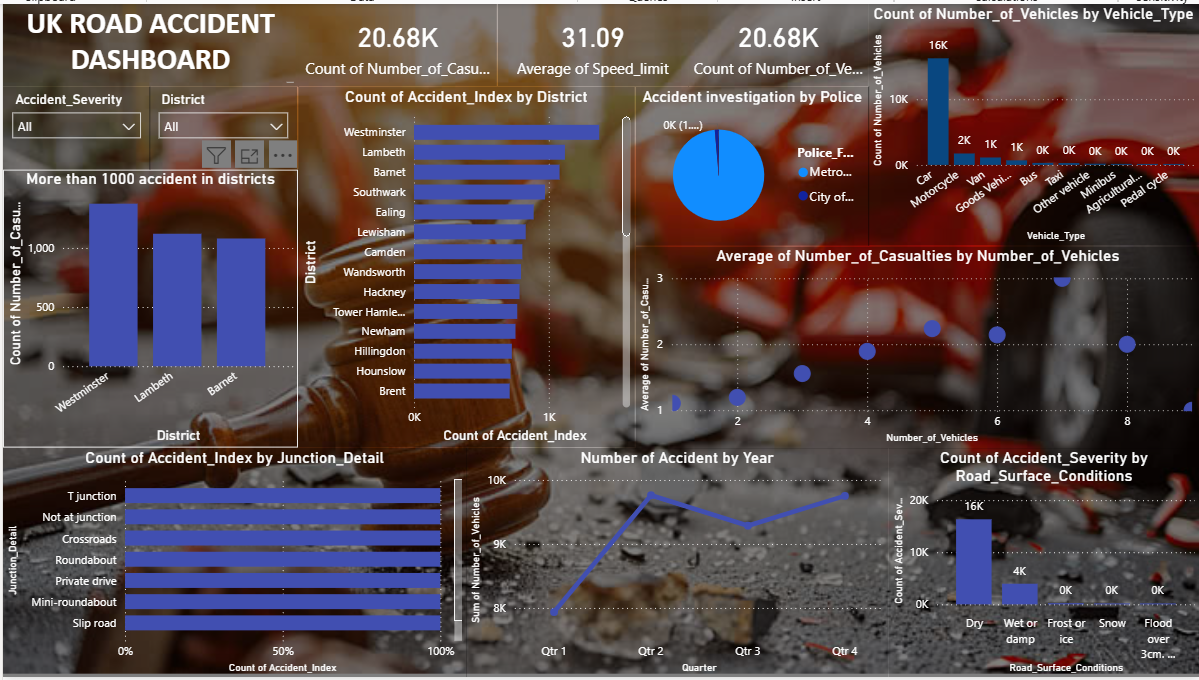

The page's visual inventory and layout, read from the dashboard file:
{"tool":"powerbi","page":{"name":"Page 1","canvas":[1280,720],"ordinal":0},"visuals":[{"type":"textbox","title":"UK ROAD ACCIDENT DASHBOARD","box":[0,0,315.7,88.5],"z":0},{"type":"card","fields":{"Values":["CountNonNull(UK_Road_Accidents.Number_of_Casualties)"]},"box":[315.7,0,212.9,88.6],"z":1000},{"type":"card","fields":{"Values":["Avg(UK_Road_Accidents.Speed_limit)"]},"box":[528.6,0,204.3,88.6],"z":2000},{"type":"card","fields":{"Values":["CountNonNull(UK_Road_Accidents.Number_of_Vehicles)"]},"box":[732.9,0,192.9,88.6],"z":3000},{"type":"pieChart","title":"Accident investigation by Police","fields":{"Category":["UK_Road_Accidents.Police_Force"],"Y":["Sum(UK_Road_Accidents.Number_of_Casualties)"]},"box":[675.7,88.6,250,170],"z":4000},{"type":"columnChart","title":"More than 1000 accident in districts","fields":{"Category":["UK_Road_Accidents.District"],"Y":["CountNonNull(UK_Road_Accidents.Number_of_Casualties)"]},"box":[0,177.1,315.7,297.1],"z":5000},{"type":"columnChart","fields":{"Category":["UK_Road_Accidents.Vehicle_Type"],"Y":["CountNonNull(UK_Road_Accidents.Number_of_Vehicles)"]},"box":[925.7,0,354.3,258.6],"z":6000},{"type":"scatterChart","fields":{"X":["UK_Road_Accidents.Number_of_Vehicles"],"Y":["Avg(UK_Road_Accidents.Number_of_Casualties)"]},"box":[675.7,258.6,604.3,215.7],"z":7000},{"type":"lineChart","title":"Number of Accident by Year","fields":{"Category":["UK_Road_Accidents.Accident Date.Variation.Date Hierarchy.Quarter"],"Y":["Sum(UK_Road_Accidents.Number_of_Vehicles)"]},"box":[495.7,474.3,451.4,245.7],"z":8000},{"type":"hundredPercentStackedBarChart","fields":{"Category":["UK_Road_Accidents.Junction_Detail"],"Y":["CountNonNull(UK_Road_Accidents.Accident_Index)"]},"box":[0,474.3,495.7,245.7],"z":9000},{"type":"clusteredBarChart","fields":{"Category":["UK_Road_Accidents.District"],"Y":["CountNonNull(UK_Road_Accidents.Accident_Index)"]},"box":[315.7,88.6,360,385.7],"z":10000},{"type":"clusteredColumnChart","fields":{"Y":["CountNonNull(UK_Road_Accidents.Accident_Severity)"],"Category":["UK_Road_Accidents.Road_Surface_Conditions"]},"box":[947.1,474.3,332.9,245.7],"z":11000},{"type":"slicer","fields":{"Values":["UK_Road_Accidents.Accident_Severity"]},"box":[0,88.6,157.1,88.6],"z":12000},{"type":"slicer","fields":{"Values":["UK_Road_Accidents.District"]},"box":[157.1,88.6,158.6,88.6],"z":13000}]}

Visuals, with their boxes in screenshot pixels (x1, y1, x2, y2), scaled from the page's 1280x720 canvas onto the 1199x680 screenshot:
"UK ROAD ACCIDENT DASHBOARD" textbox: (x1=0, y1=0, x2=296, y2=84)
card - CountNonNull(UK_Road_Accidents.Number_of_Casualties): (x1=296, y1=0, x2=495, y2=84)
card - Avg(UK_Road_Accidents.Speed_limit): (x1=495, y1=0, x2=687, y2=84)
card - CountNonNull(UK_Road_Accidents.Number_of_Vehicles): (x1=687, y1=0, x2=867, y2=84)
"Accident investigation by Police" pieChart: (x1=633, y1=84, x2=867, y2=244)
"More than 1000 accident in districts" columnChart: (x1=0, y1=167, x2=296, y2=448)
columnChart - UK_Road_Accidents.Vehicle_Type x CountNonNull(UK_Road_Accidents.Number_of_Vehicles): (x1=867, y1=0, x2=1198, y2=244)
scatterChart - UK_Road_Accidents.Number_of_Vehicles x Avg(UK_Road_Accidents.Number_of_Casualties): (x1=633, y1=244, x2=1198, y2=448)
"Number of Accident by Year" lineChart: (x1=464, y1=448, x2=887, y2=679)
hundredPercentStackedBarChart - UK_Road_Accidents.Junction_Detail x CountNonNull(UK_Road_Accidents.Accident_Index): (x1=0, y1=448, x2=464, y2=679)
clusteredBarChart - UK_Road_Accidents.District x CountNonNull(UK_Road_Accidents.Accident_Index): (x1=296, y1=84, x2=633, y2=448)
clusteredColumnChart - CountNonNull(UK_Road_Accidents.Accident_Severity) x UK_Road_Accidents.Road_Surface_Conditions: (x1=887, y1=448, x2=1198, y2=679)
slicer - UK_Road_Accidents.Accident_Severity: (x1=0, y1=84, x2=147, y2=167)
slicer - UK_Road_Accidents.District: (x1=147, y1=84, x2=296, y2=167)
